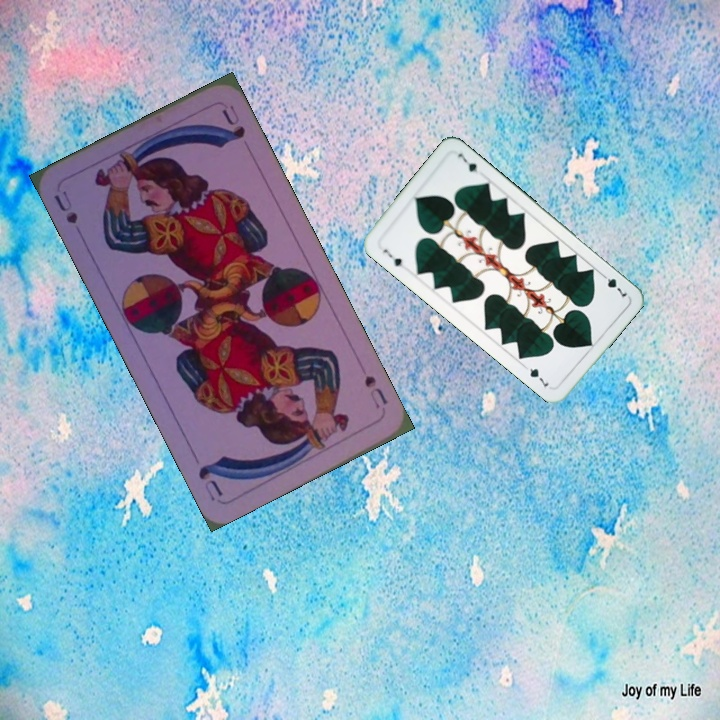G7: (596, 269, 630, 301), (379, 245, 405, 269)
SU: (49, 186, 81, 227), (360, 371, 391, 411)
